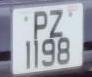1: (24, 38, 36, 75), (30, 38, 41, 73)
8: (56, 35, 73, 69)
9: (40, 37, 57, 70)
P: (32, 8, 50, 44)
Z: (48, 8, 66, 42)
